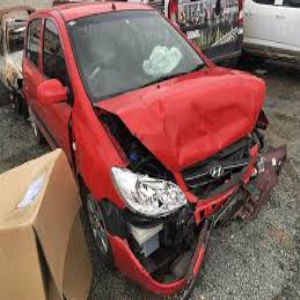bonnet: (132, 79, 267, 157)
